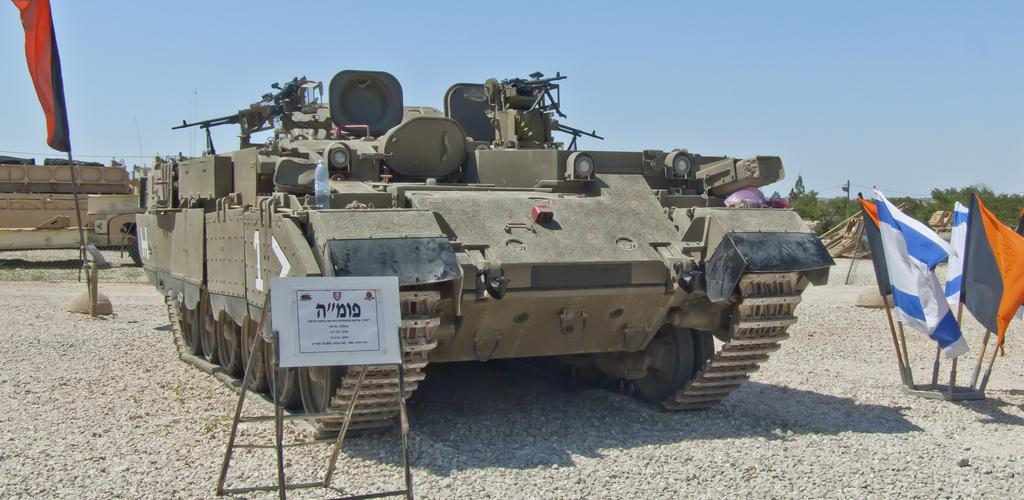Tank: (134, 67, 837, 435)
